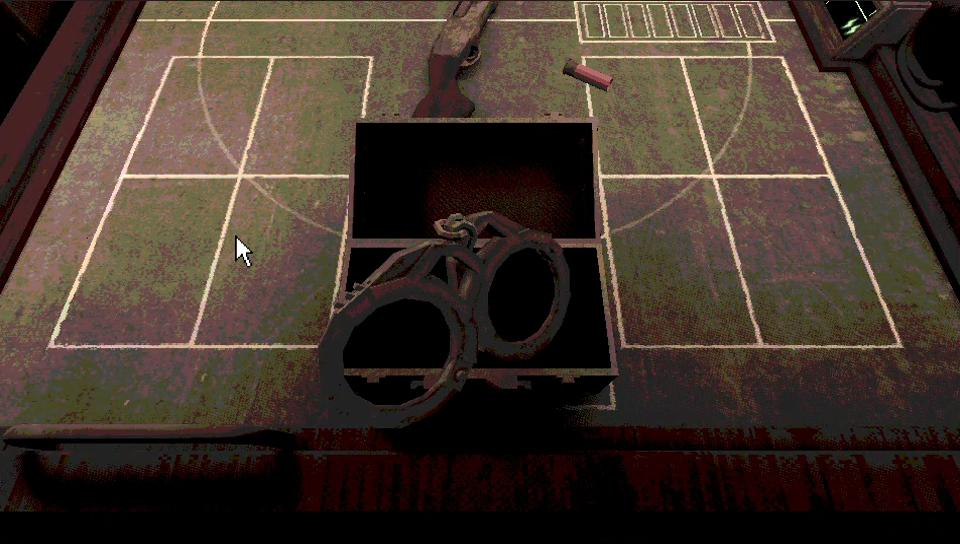ally: (0, 20, 959, 437)
emptyspace: (48, 176, 240, 346), (716, 175, 901, 346), (191, 176, 357, 348), (603, 176, 763, 345), (683, 54, 830, 178), (121, 57, 273, 176), (238, 57, 371, 179), (584, 56, 714, 177)
